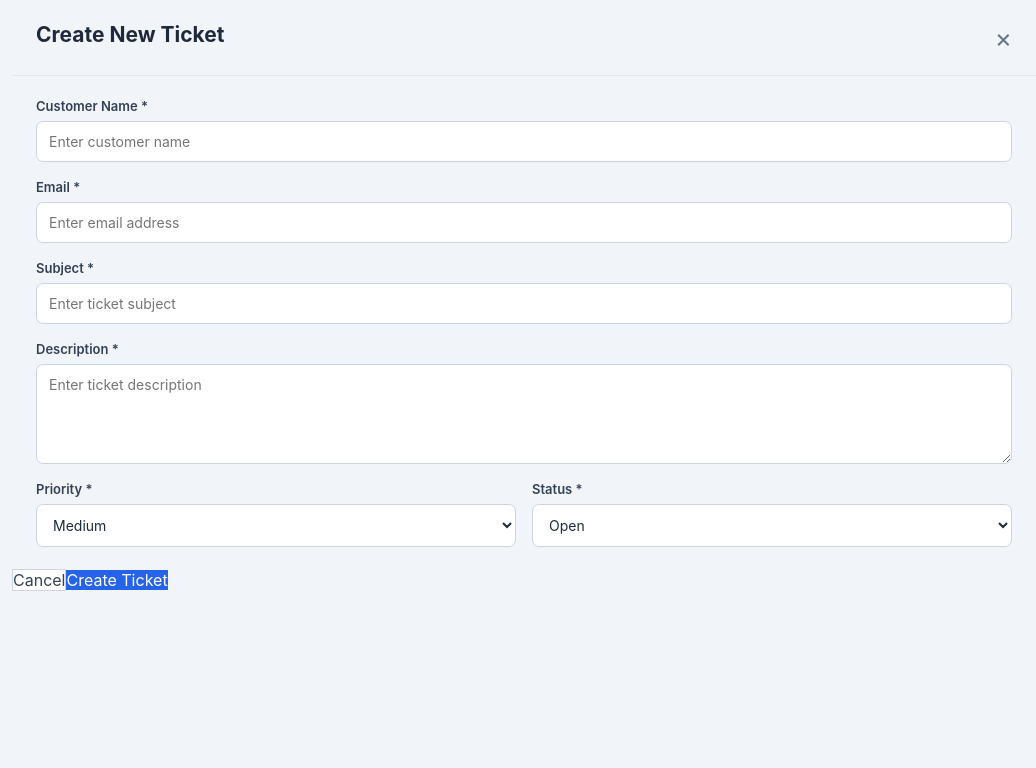
Test: TicketForm › shows validation errors for empty fields
Click the button "Create Ticket" at (117, 580), box [66,570,168,590]
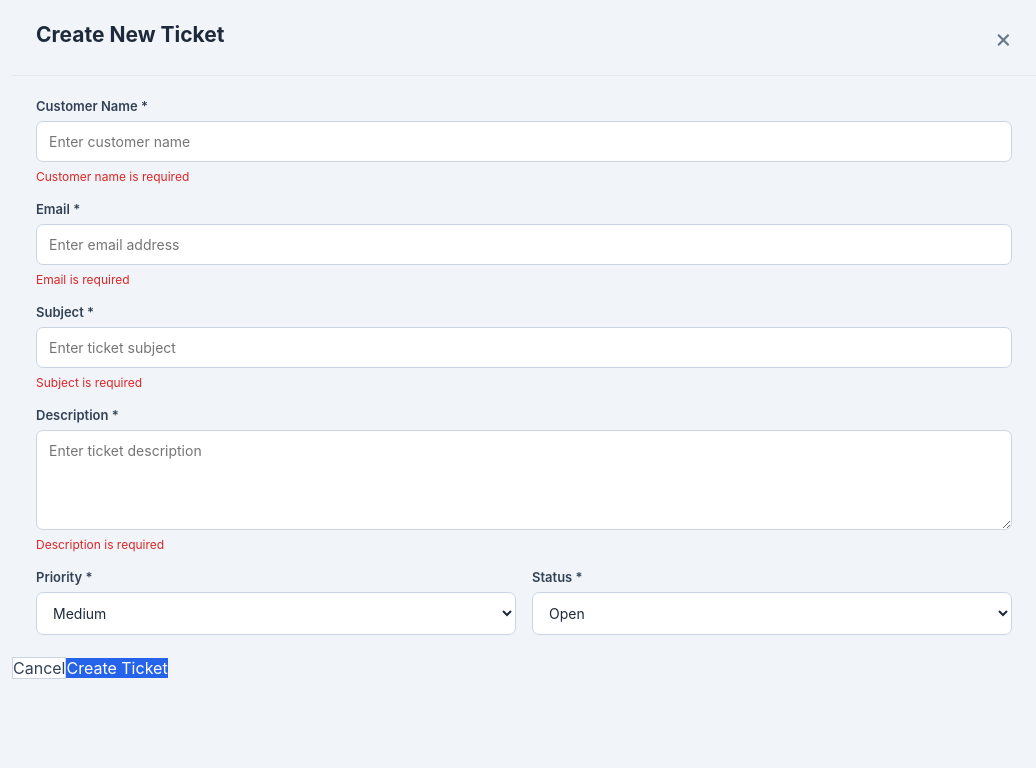
Expected: the text "Customer name is required" is shown, [36,169,189,184]
Expected: the text "Email is required" is shown, [36,272,130,287]
Expected: the text "Subject is required" is shown, [36,375,142,390]
